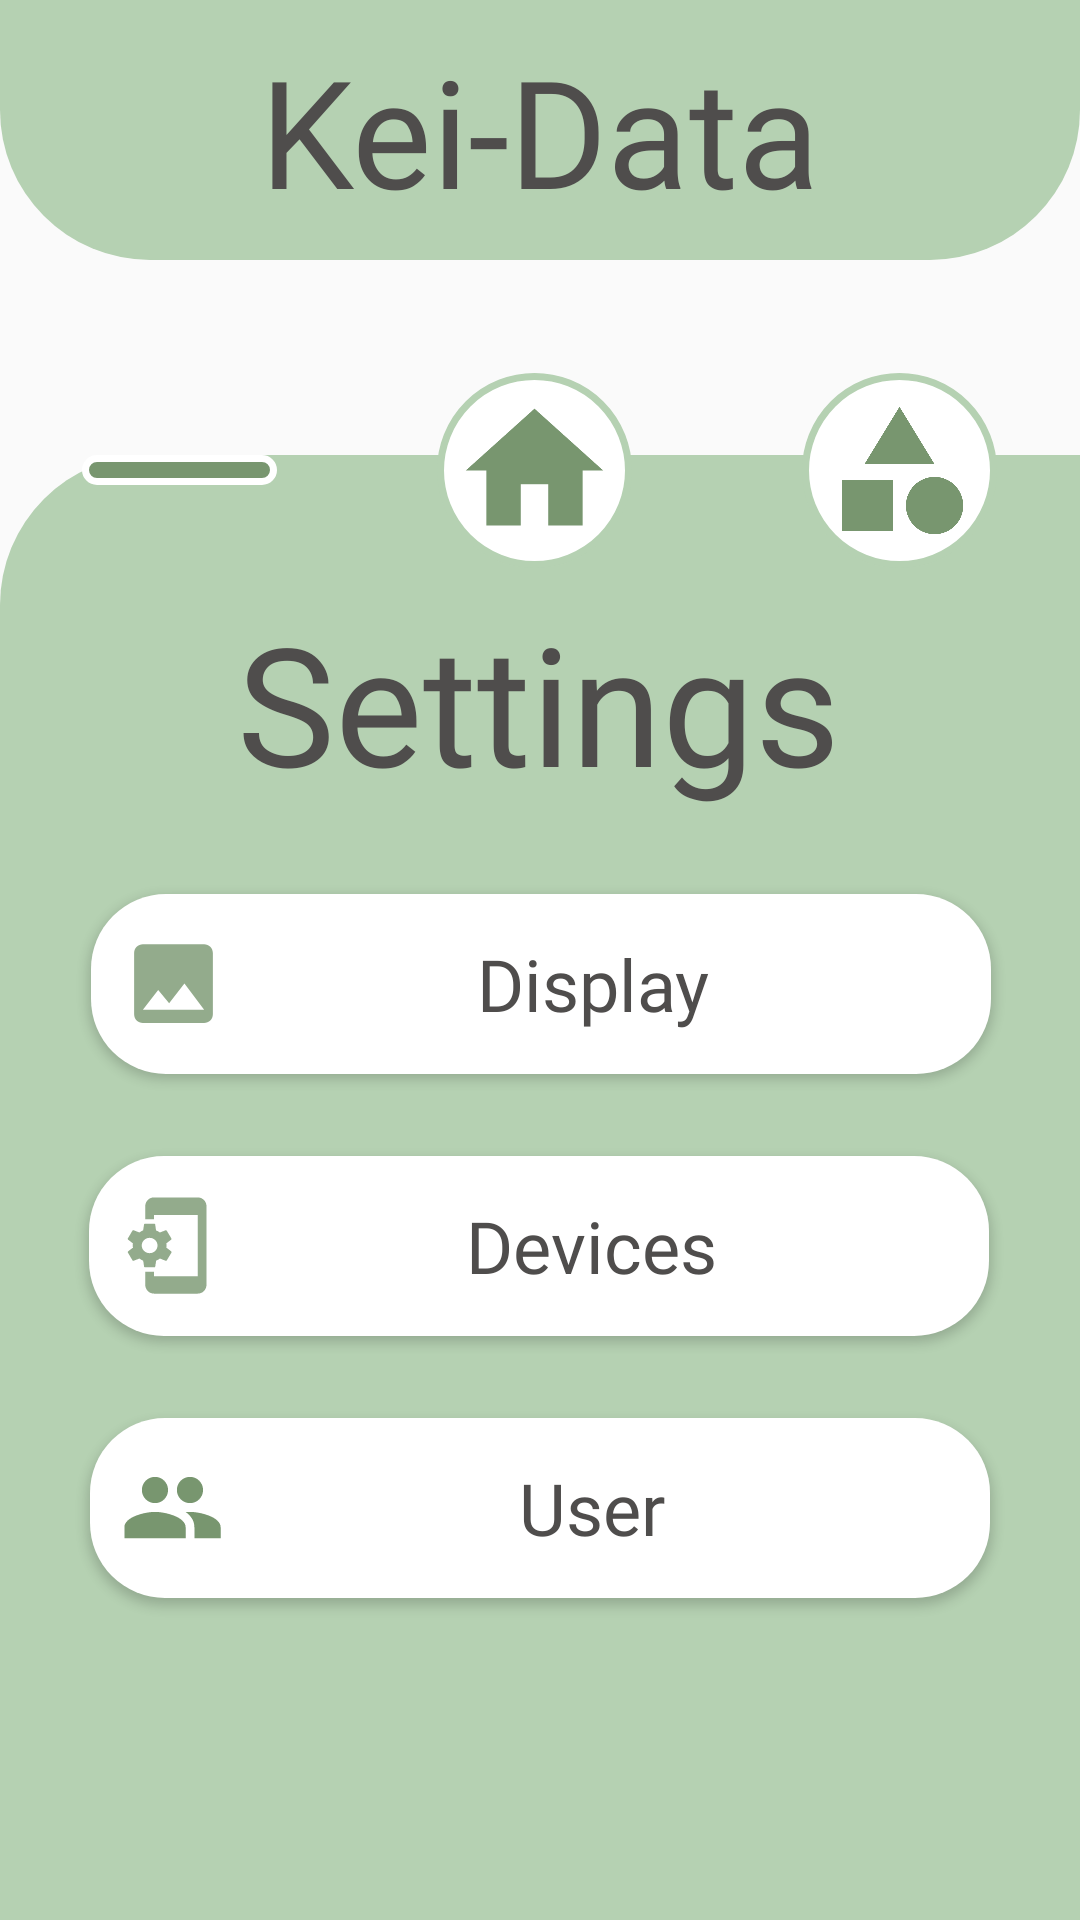

Icons on this 1080px x 1920px Android screen, each with the point to tap as (x=x, y=y):
category: (x=899, y=470)
home: (x=534, y=470)
